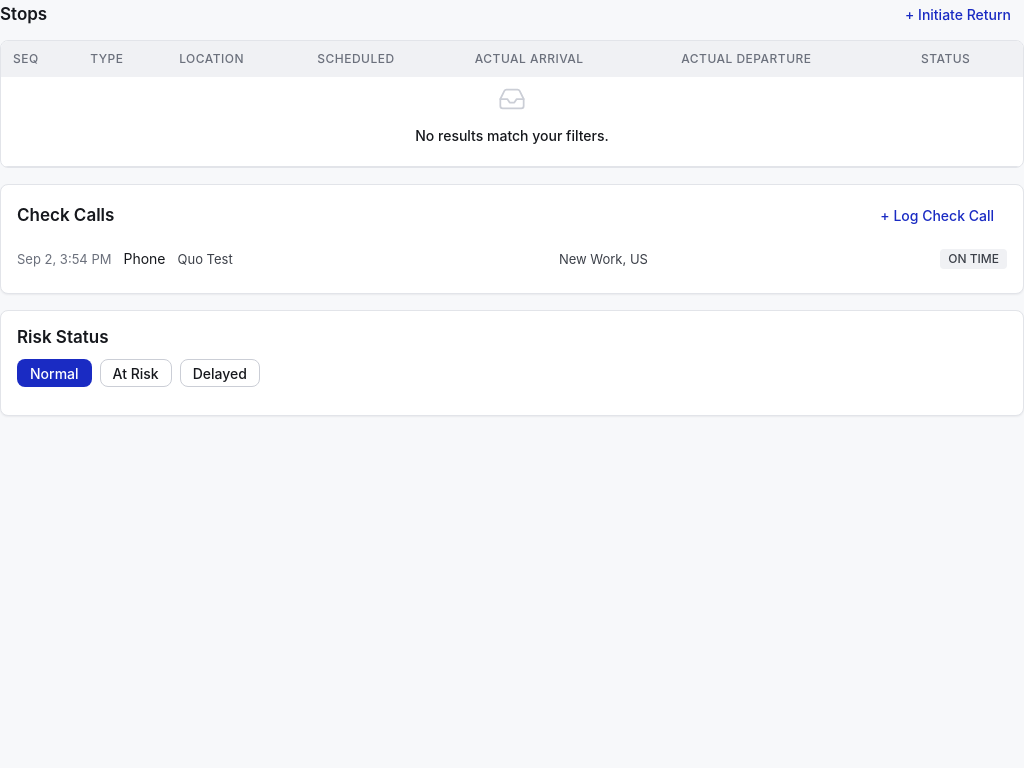
Test: StopsTrackingTab — Check Call row click → details drawer › shows the clicked row's own details — date/time, driver, location, status
What coordinates should you click on to do the following:
click the text "Quo Test"
I would click on:
 (205, 259)
Its box is [178,251,233,267].
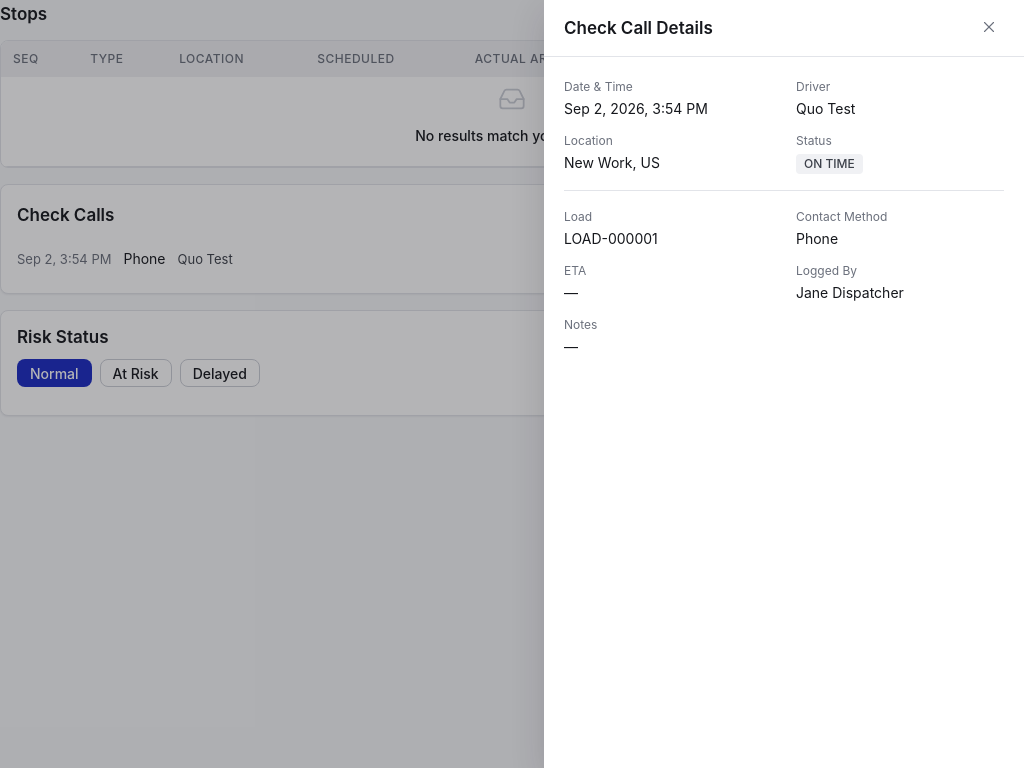
Expected: the text "Date & Time" is shown, [564,79,633,94]
Expected: the text "Location" is shown, [564,133,613,148]
Expected: the text "New Work, US" is shown, [564,154,660,171]
